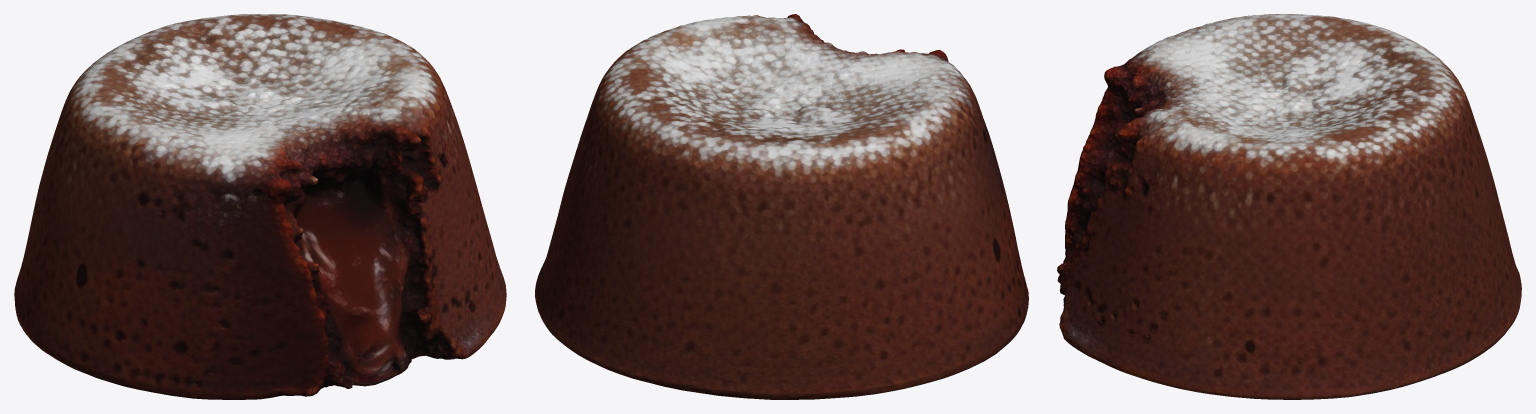
The model's file is sobremesa-exemplo.glb.
The picture shows the model from 3 angles, left to right: view 1: azimuth 30°, elevation 25°; view 2: azimuth 150°, elevation 25°; view 3: azimuth 270°, elevation 25°; orthographic projection. The views are drawn at different scales.
Visible parts, largest first — view 1: tamanho-real; view 2: tamanho-real; view 3: tamanho-real.
Part boxes in pixels (<box>): tamanho-real: <box>14,14,506,399</box>; tamanho-real: <box>535,14,1028,399</box>; tamanho-real: <box>1057,14,1521,399</box>.
Bounding box in the file's own units: 0.07 × 0.0345 × 0.0667.
Materials: 1 (1 with a texture image).
